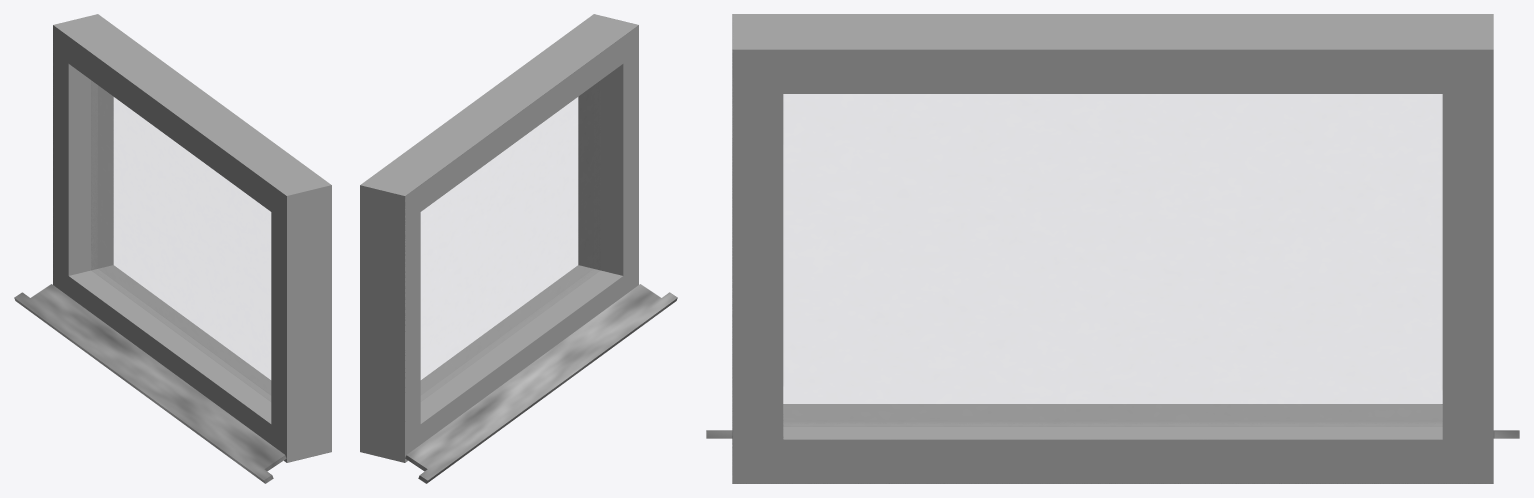
File: Window_Roof_Stairs.fbx
3 views of the same model, side by side, from view 1: azimuth 30°, elevation 25°; view 2: azimuth 150°, elevation 25°; view 3: azimuth 270°, elevation 25° (orthographic). The views are drawn at different scales.
Parts seen in each view (by area): view 1: Windowsill_stairs_2-16.009; view 2: Windowsill_stairs_2-16.009; view 3: Windowsill_stairs_2-16.009.
Part boxes in pixels (x1,y1,x2,y2): Windowsill_stairs_2-16.009: [14, 14, 331, 483]; Windowsill_stairs_2-16.009: [360, 14, 677, 483]; Windowsill_stairs_2-16.009: [706, 14, 1519, 483].
Bounding box in the file's own units: 25.31 × 87.5 × 144.
4 materials, 4 textured.
